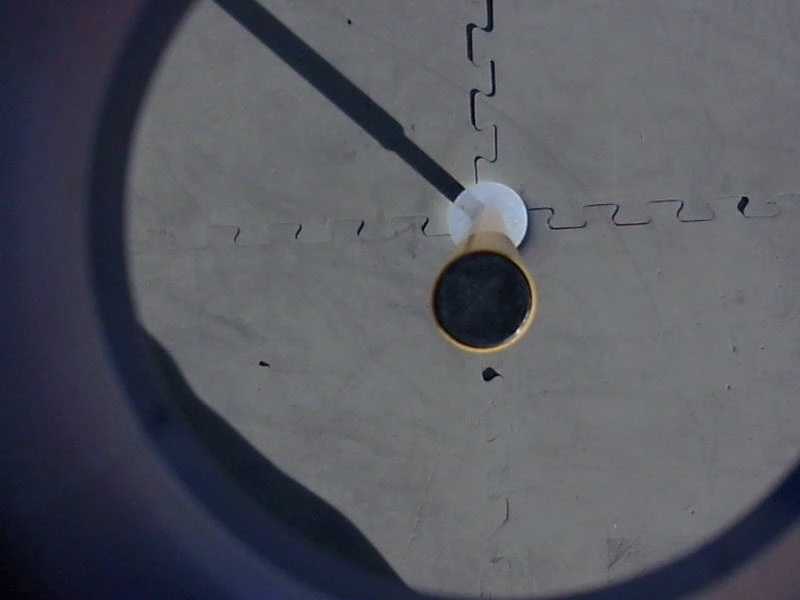tip: (422, 244, 543, 362)
